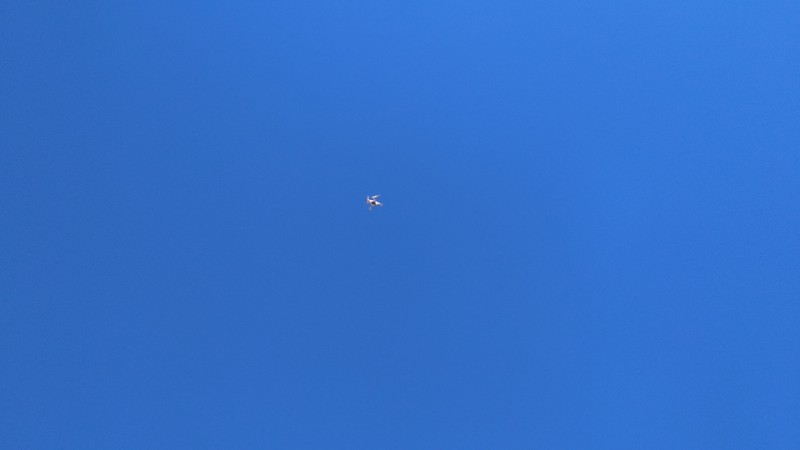drone: (364, 194, 383, 210)
